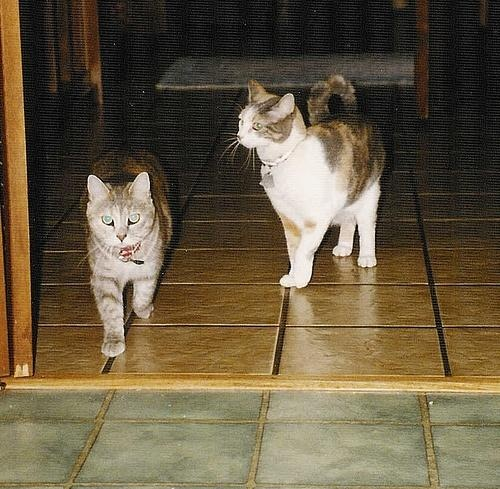cat: (223, 76, 389, 289), (86, 149, 174, 358)
